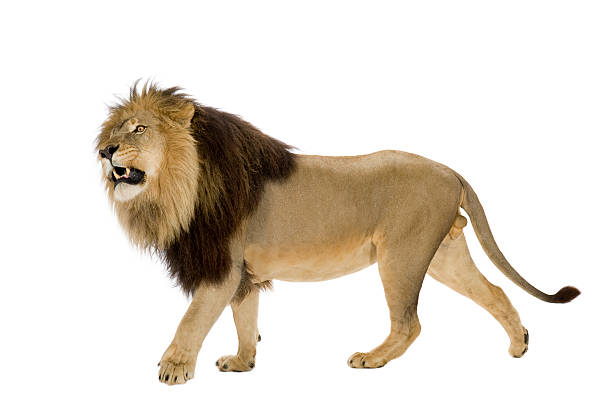lion: (75, 54, 315, 307)
